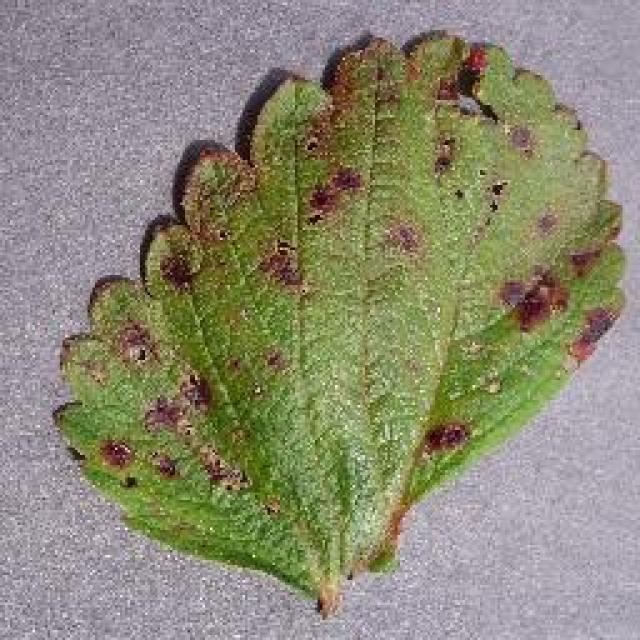Strawberry leaf scorch: (218, 128, 570, 402)
